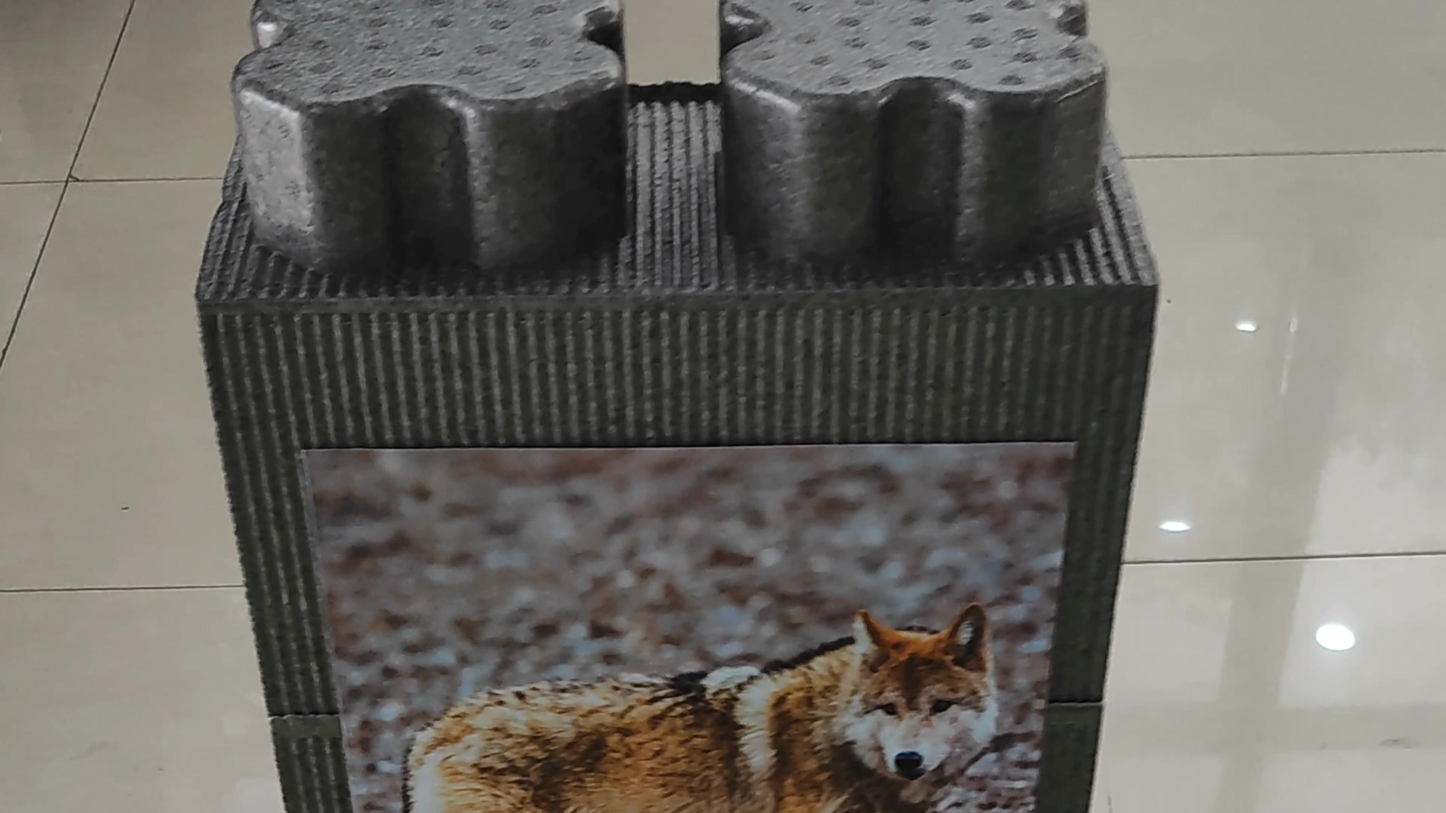wolf: (367, 568, 1017, 810)
